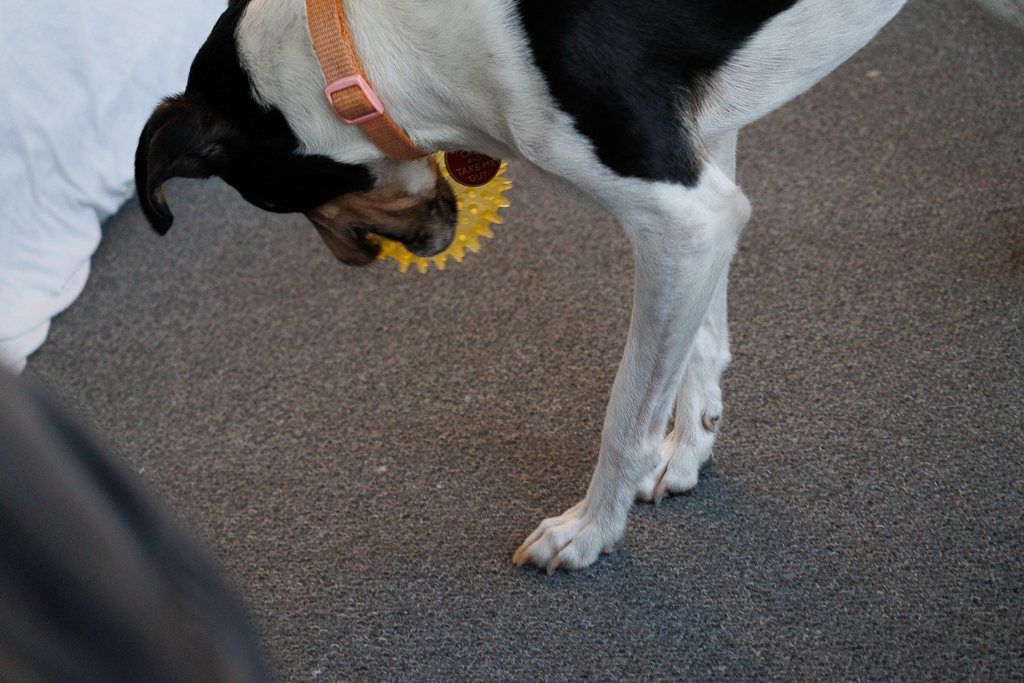Dog: (125, 0, 1024, 584)
